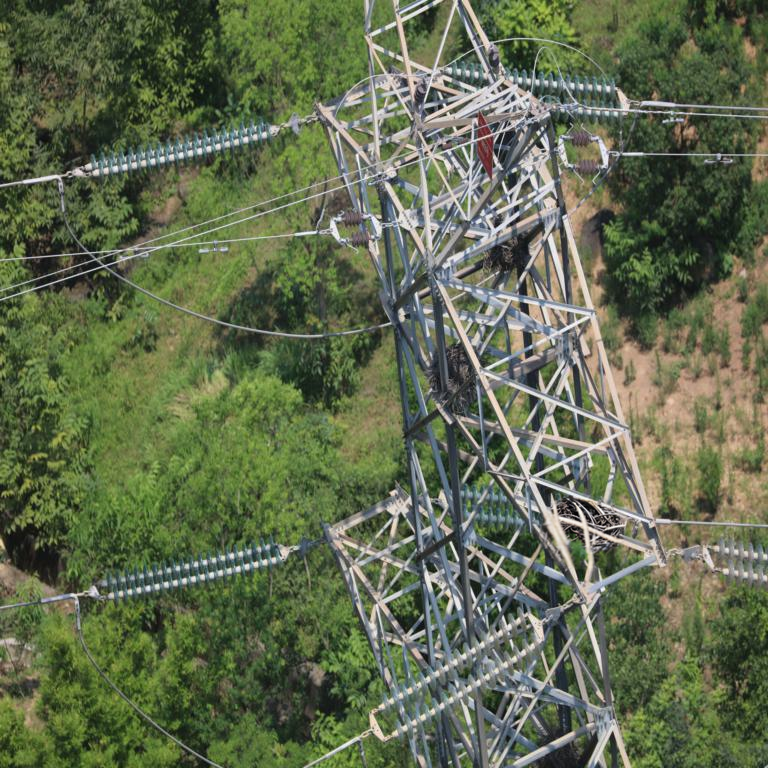nest: (548, 497, 625, 551), (429, 346, 487, 408), (485, 226, 529, 274)
